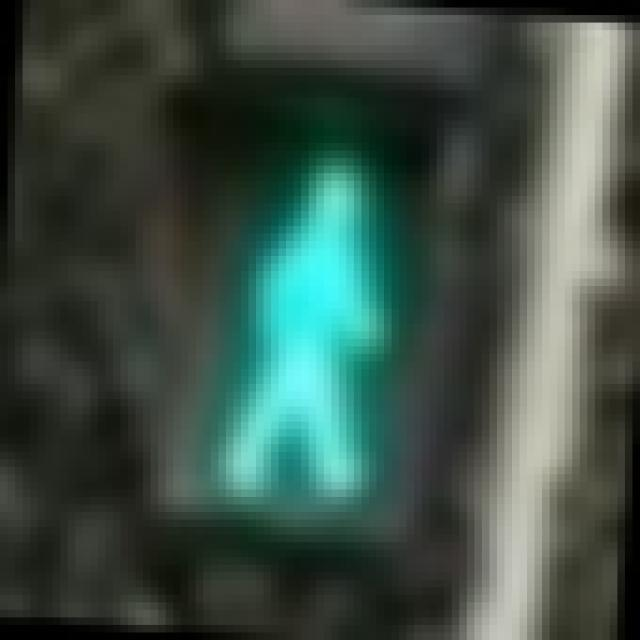geen-crossing: (150, 82, 474, 534)
